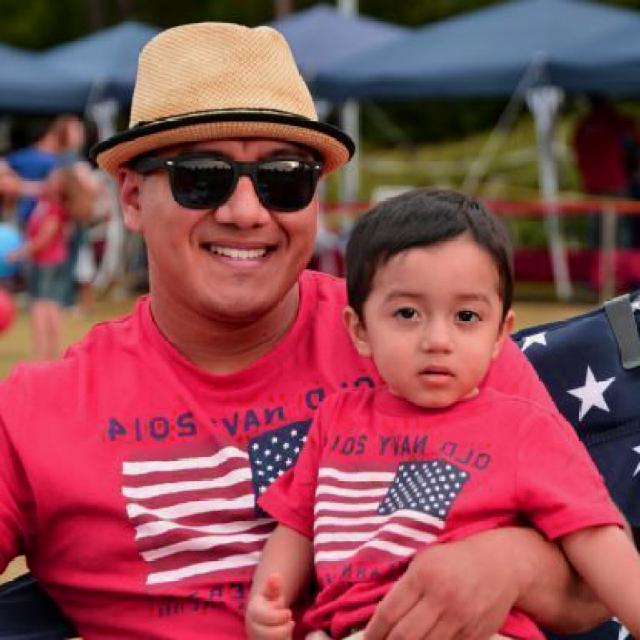face_nomask: (162, 146, 322, 286), (382, 296, 498, 393)
glasses: (137, 154, 334, 215)
hand_noglove: (359, 532, 506, 640), (243, 567, 306, 640)
head_nohelmet: (99, 35, 350, 167), (364, 188, 505, 268)
person: (0, 6, 359, 640), (288, 183, 570, 640)
